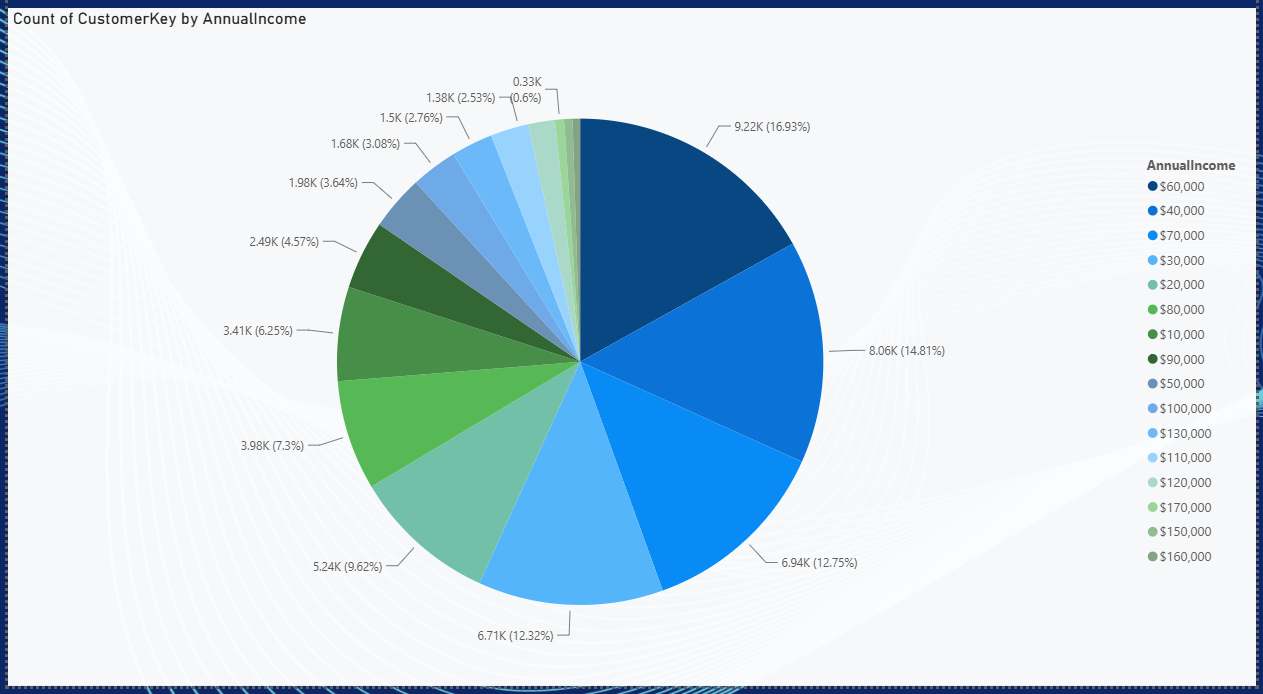

The page's visual inventory and layout, read from the dashboard file:
{"tool":"powerbi","page":{"name":"Income Distribution","canvas":[1280,720],"ordinal":0},"visuals":[{"type":"pieChart","fields":{"Category":["gold extsales.AnnualIncome"],"Y":["CountNonNull(gold extsales.CustomerKey)"]},"box":[0,24.6,1280,695.4],"z":0}]}

Visuals, with their boxes in screenshot pixels (x1, y1, x2, y2), scaled from the page's 1280x720 canvas onto the 1263x694 screenshot:
pieChart - gold extsales.AnnualIncome x CountNonNull(gold extsales.CustomerKey): box(0, 24, 1262, 693)
